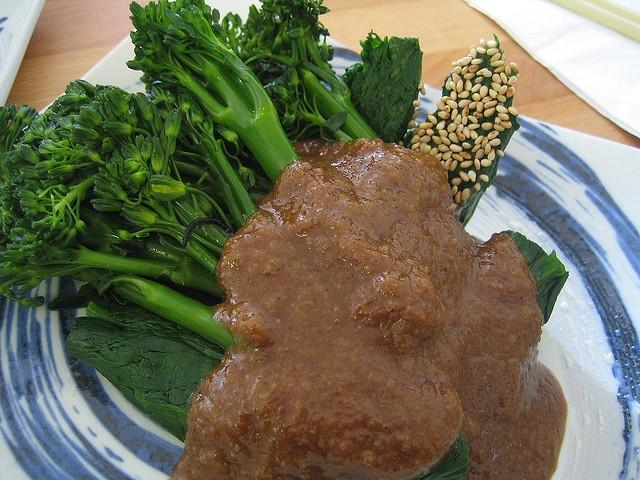broccoli: (0, 103, 225, 308), (126, 0, 302, 183), (238, 1, 380, 144), (90, 134, 222, 275), (65, 268, 234, 352), (150, 107, 234, 255), (174, 93, 259, 230), (70, 87, 140, 165)
